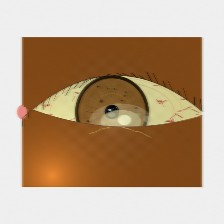corneal_ulcer: (88, 95, 154, 148)
